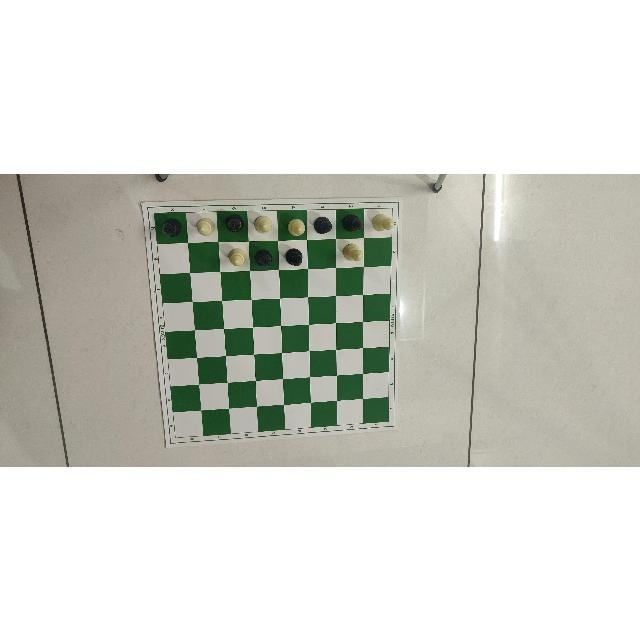black-bishop: (158, 215, 184, 237), (340, 212, 363, 234), (310, 213, 333, 235), (223, 212, 244, 234), (285, 244, 305, 267), (254, 248, 274, 268)
white-bishop: (366, 208, 397, 234), (222, 243, 248, 269), (338, 241, 363, 265), (282, 213, 306, 237), (189, 217, 217, 235), (250, 212, 273, 233)
